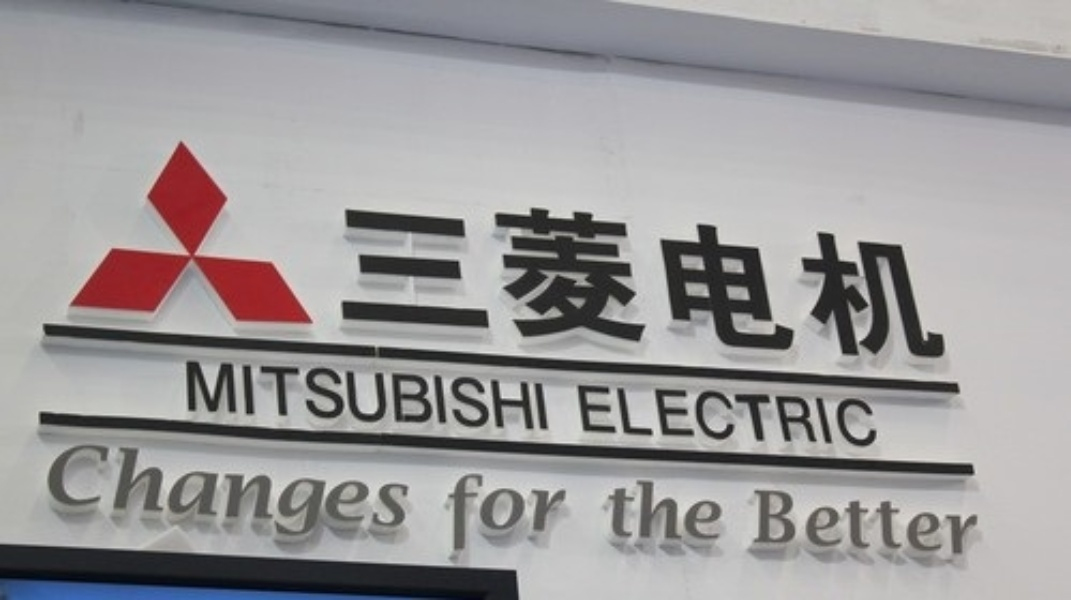text: (337, 189, 352, 367), (353, 189, 368, 367), (369, 189, 384, 367), (385, 189, 400, 367), (401, 189, 416, 367), (417, 189, 432, 367), (433, 189, 448, 367), (449, 189, 464, 367), (465, 189, 480, 367), (481, 189, 496, 367), (497, 189, 512, 367), (513, 189, 528, 367), (529, 189, 544, 367), (545, 189, 560, 367), (561, 189, 576, 367), (577, 189, 592, 367), (593, 189, 608, 367), (609, 189, 624, 367), (625, 189, 640, 367), (641, 189, 656, 367), (657, 189, 672, 367), (673, 189, 688, 367), (689, 189, 704, 367), (705, 189, 720, 367), (721, 189, 736, 367), (737, 189, 752, 367), (753, 189, 768, 367), (769, 189, 784, 367), (785, 189, 800, 367), (801, 189, 816, 367), (817, 189, 832, 367), (833, 189, 848, 367), (849, 189, 864, 367), (865, 189, 880, 367), (881, 189, 896, 367), (897, 189, 912, 367), (913, 189, 928, 367), (929, 189, 944, 367), (945, 189, 956, 367), (49, 440, 64, 545), (65, 440, 80, 545), (81, 440, 96, 545), (97, 440, 112, 545), (113, 440, 128, 545), (129, 440, 144, 545), (145, 440, 160, 545), (161, 440, 176, 545), (177, 440, 192, 545), (193, 440, 208, 545), (209, 440, 224, 545), (225, 440, 240, 545), (241, 440, 256, 545), (257, 440, 272, 545), (273, 440, 288, 545), (289, 440, 304, 545), (305, 440, 320, 545), (321, 440, 336, 545), (337, 440, 352, 545), (353, 440, 368, 545), (369, 440, 384, 545), (385, 440, 400, 545), (401, 440, 416, 545), (449, 470, 464, 553), (465, 470, 480, 553), (481, 470, 496, 553), (497, 470, 512, 553), (513, 470, 528, 553), (529, 470, 544, 553), (545, 470, 560, 553), (193, 361, 208, 436), (209, 361, 224, 436), (225, 361, 240, 436), (241, 361, 256, 436), (257, 361, 272, 436), (273, 361, 288, 436), (289, 361, 304, 436), (305, 361, 320, 436), (321, 361, 336, 436), (337, 361, 352, 436), (353, 361, 368, 436), (369, 361, 384, 436), (385, 361, 400, 436), (401, 361, 416, 436), (417, 361, 432, 436), (433, 361, 448, 436), (449, 361, 464, 436), (465, 361, 480, 436), (481, 361, 496, 436), (497, 361, 512, 436), (513, 361, 528, 436), (529, 361, 544, 436), (769, 487, 784, 562), (785, 487, 800, 562), (801, 487, 816, 562), (817, 487, 832, 562), (833, 487, 848, 562), (849, 487, 864, 562), (865, 487, 880, 562), (881, 487, 896, 562), (897, 487, 912, 562), (913, 487, 928, 562), (929, 487, 944, 562), (945, 487, 960, 562), (961, 487, 976, 562), (754, 487, 768, 562), (609, 476, 624, 545), (625, 476, 640, 545), (641, 476, 656, 545), (657, 476, 672, 545), (673, 476, 688, 545), (689, 476, 704, 545), (705, 476, 720, 545), (865, 384, 881, 448), (577, 384, 592, 448), (593, 384, 608, 448), (609, 384, 624, 448), (625, 384, 640, 448), (641, 384, 656, 448), (657, 384, 672, 448), (673, 384, 688, 448), (689, 384, 704, 448), (705, 384, 720, 448), (721, 384, 736, 448), (737, 384, 752, 448), (753, 384, 768, 448), (769, 384, 784, 448), (785, 384, 800, 448), (801, 384, 816, 448), (817, 384, 832, 448), (833, 384, 848, 448), (849, 384, 864, 448), (721, 476, 731, 545), (183, 361, 192, 436), (545, 361, 553, 436), (561, 470, 566, 553), (605, 476, 608, 545), (446, 470, 448, 553), (977, 487, 979, 562)
